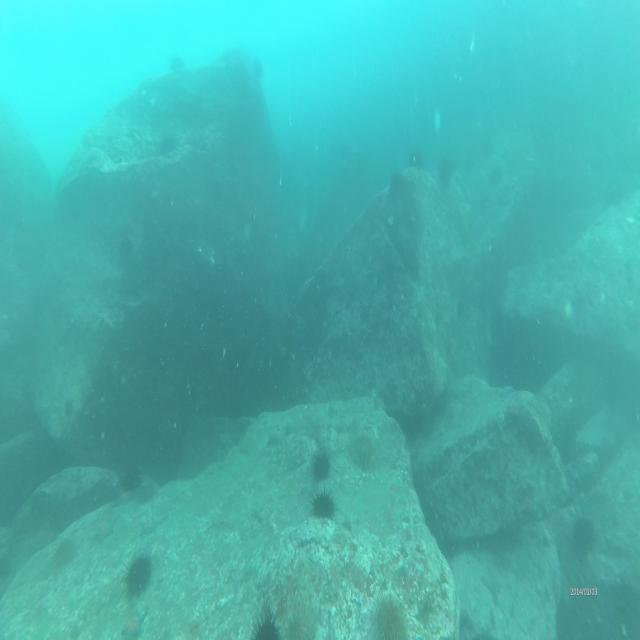echinus: (368, 587, 410, 640), (568, 506, 600, 562), (121, 550, 158, 596), (247, 602, 285, 640), (307, 482, 338, 526), (352, 428, 377, 474), (308, 441, 332, 482), (154, 128, 179, 161)
starfish: (118, 608, 148, 640), (91, 514, 115, 544), (138, 512, 161, 535)
